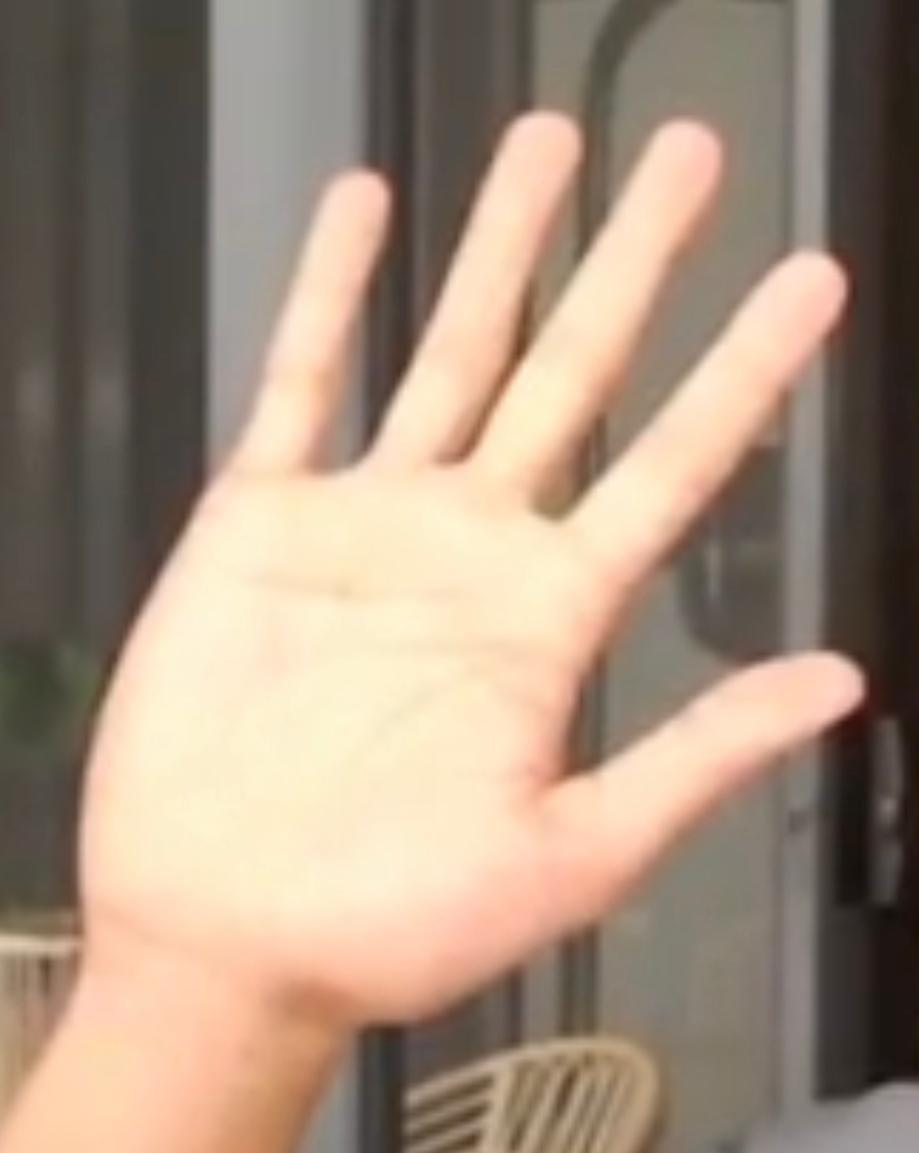Hello: (40, 83, 880, 1153)
